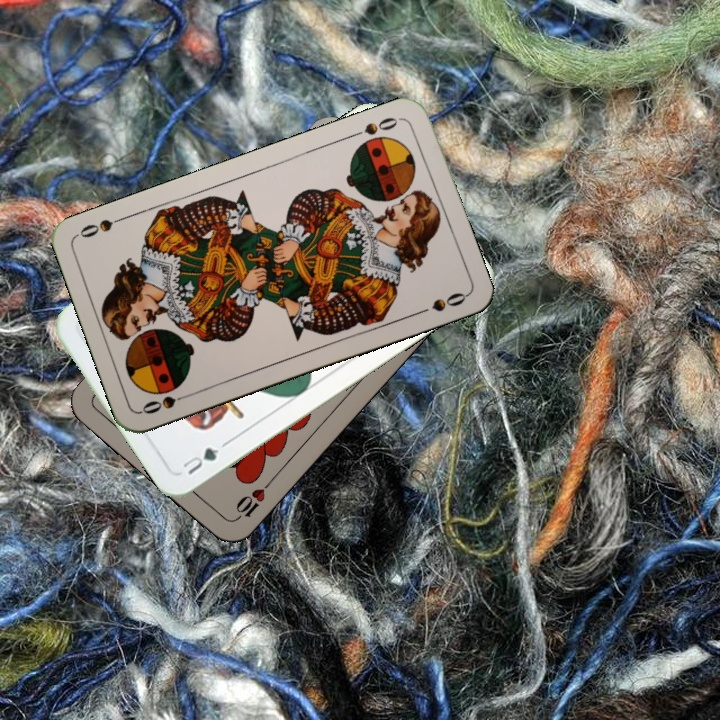GU: (178, 443, 222, 478)
H10: (229, 476, 274, 524)
SO: (137, 389, 196, 417), (347, 113, 405, 140)
